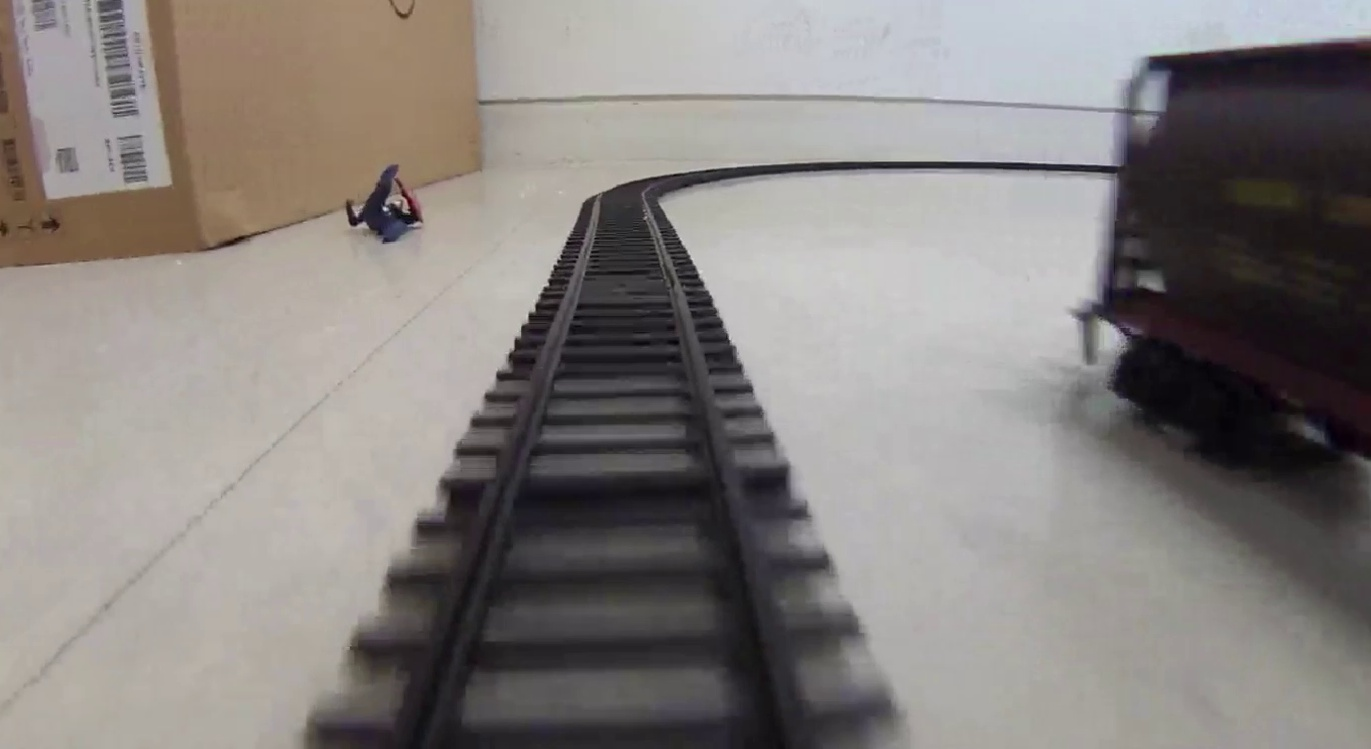people: (344, 163, 426, 242)
